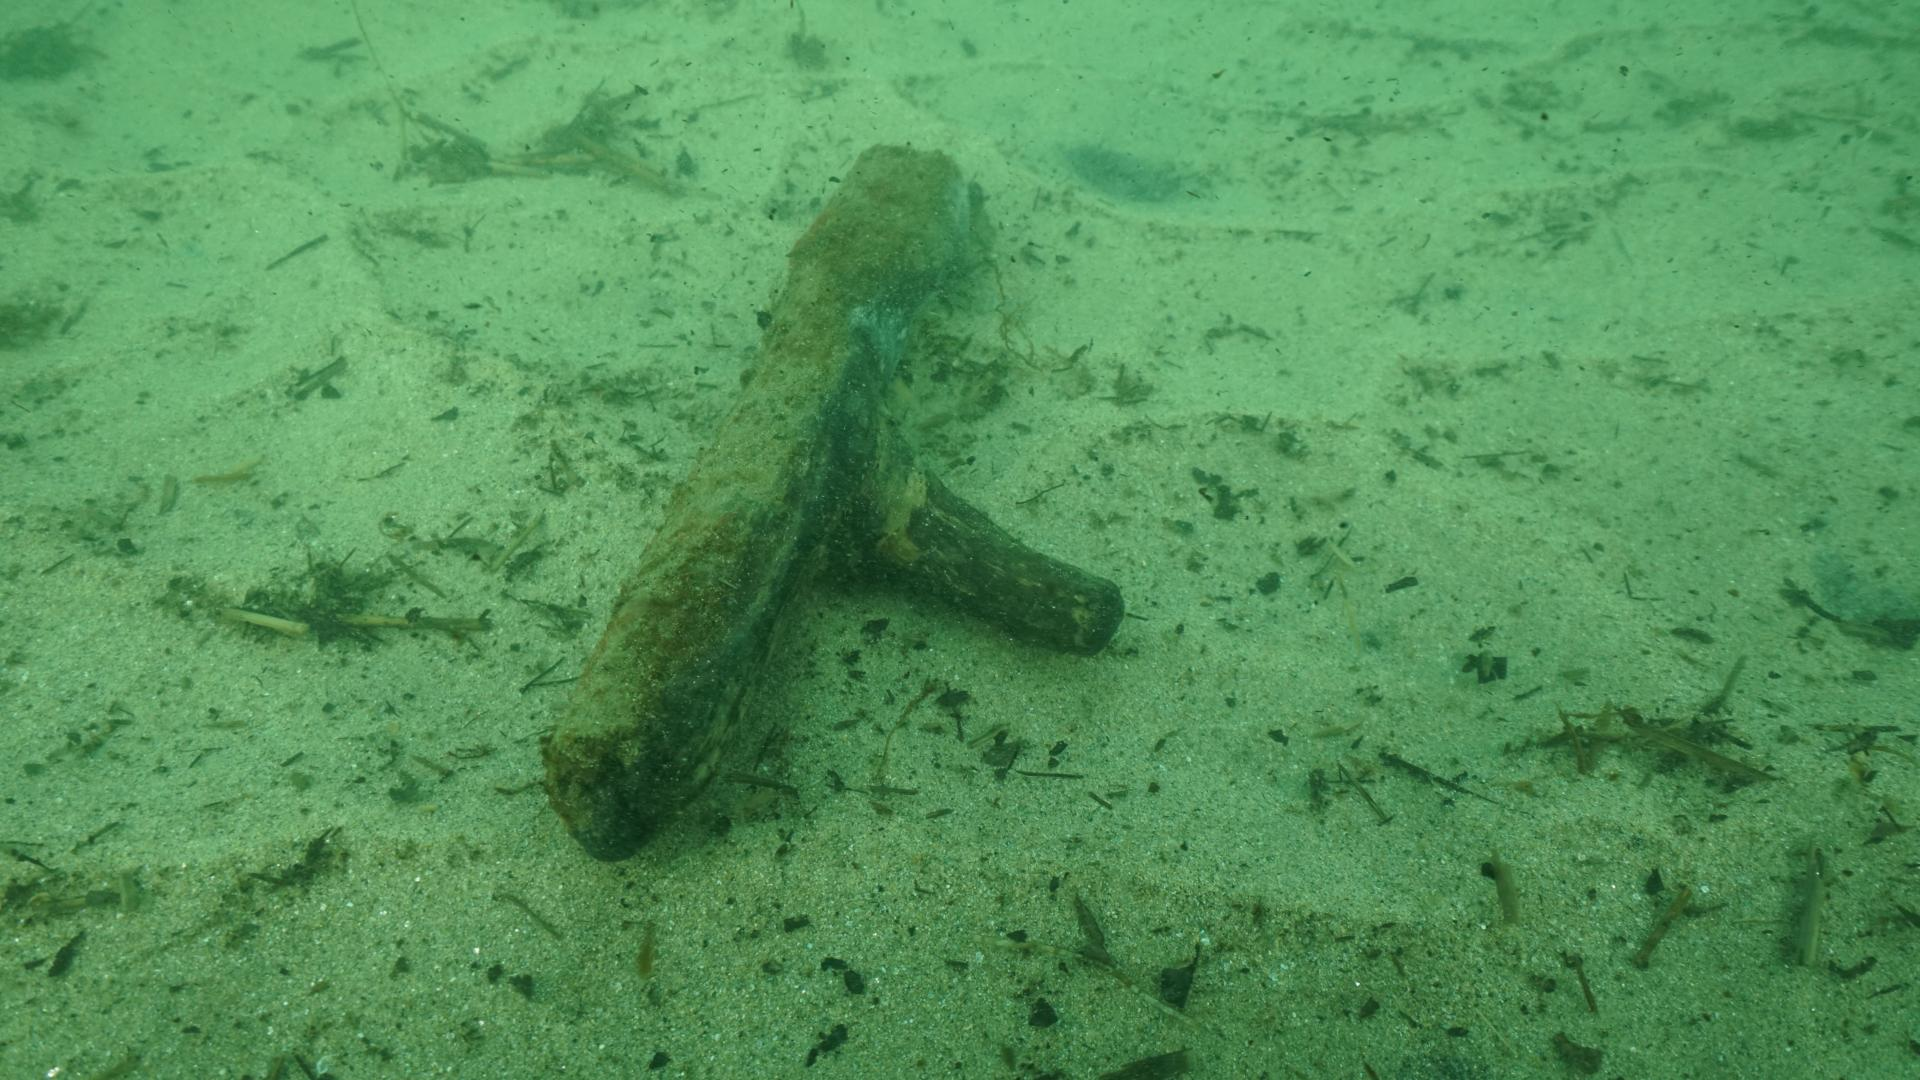wood: (527, 140, 1124, 853)
